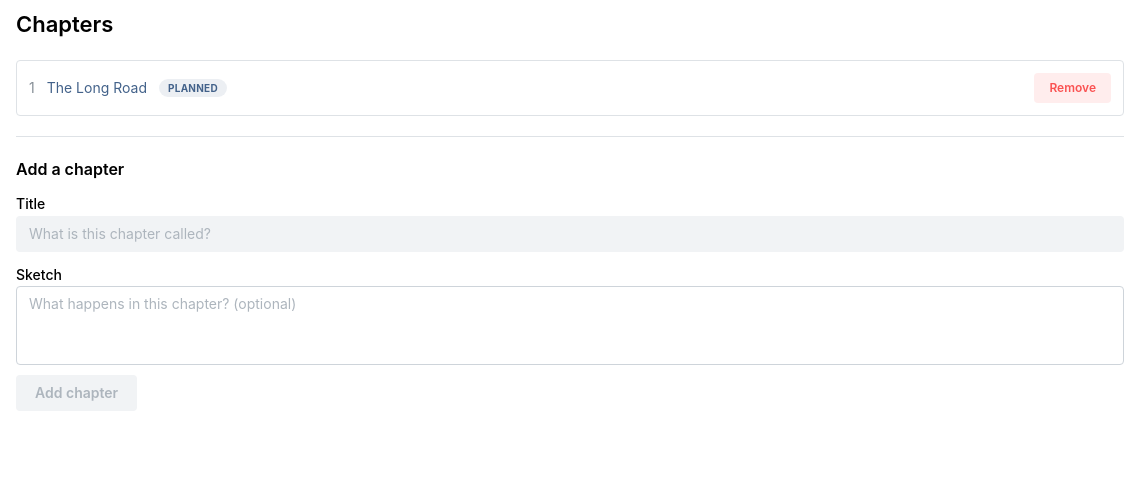
it: ChaptersPage — adding a chapter › DoD-3 (US-032.AC-1): submitting sends exactly the typed title and sketch, and the chapter then shown is the SERVER's, planned
The width and height of the screenshot is (1141, 496).
Type "A chapter as the author typed it" into the field labelled "Title".
click(570, 234); type("A chapter as the author typed it")  # box [16, 216, 1124, 252]
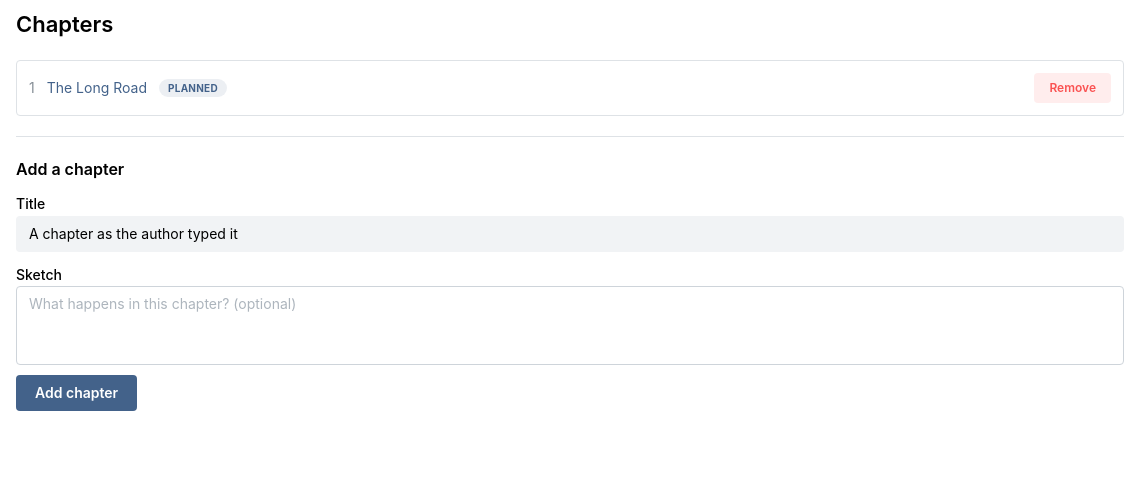
Type "Two brothers meet on the ice and neither speaks." into the text box labelled "Sketch".
click(570, 326); type("Two brothers meet on the ice and neither speaks.")  # box [16, 286, 1124, 365]
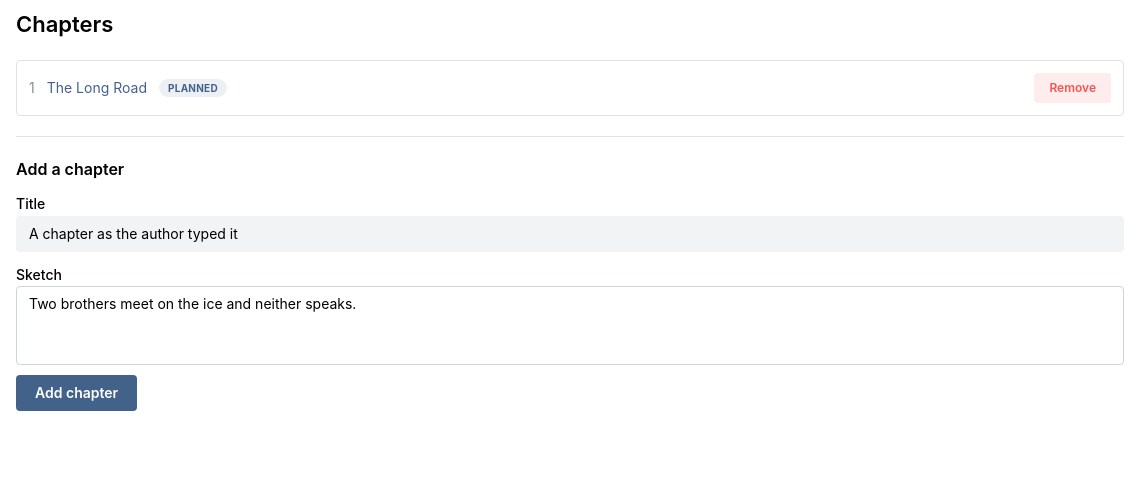
Click the button "Add chapter".
click(77, 393)  # box [16, 375, 137, 411]
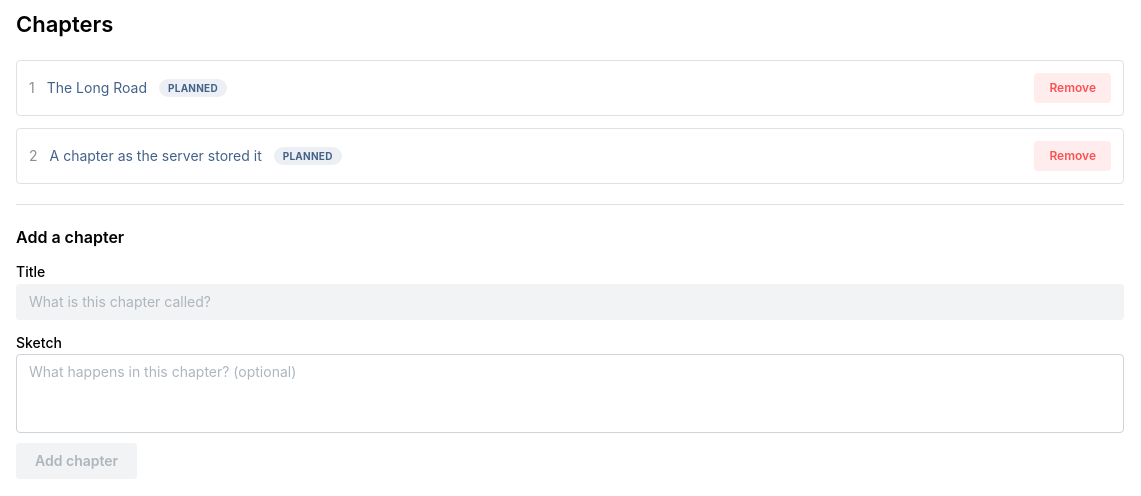
Result: the link "A chapter as the server stored it" is shown at [50, 146, 262, 166]
